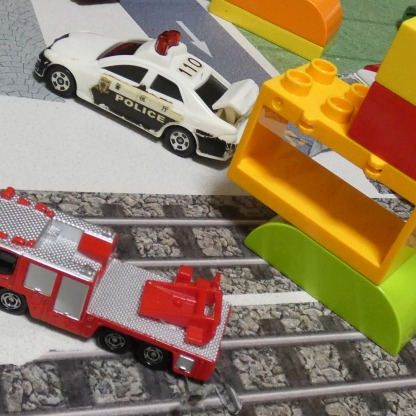car: (0, 186, 232, 386), (37, 31, 261, 171)
